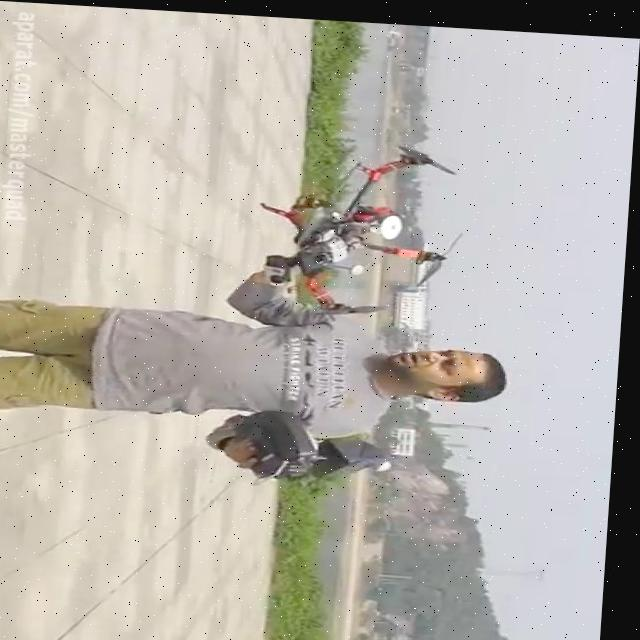drone: (255, 129, 474, 318)
